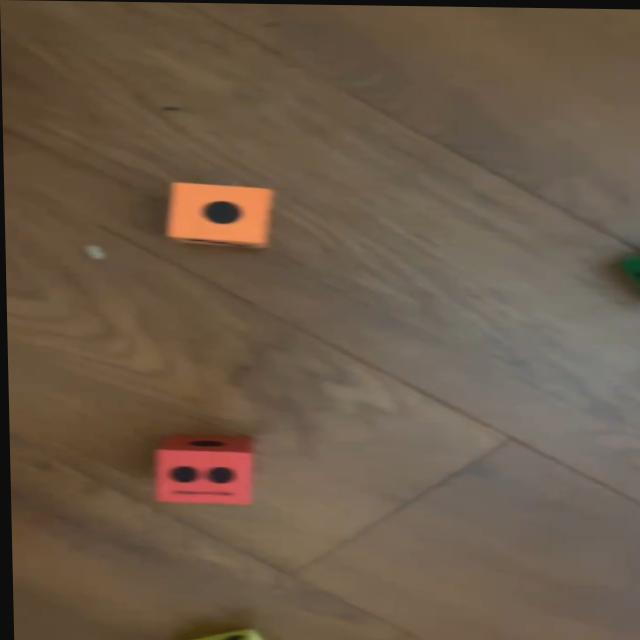red_block: (152, 440, 253, 503)
